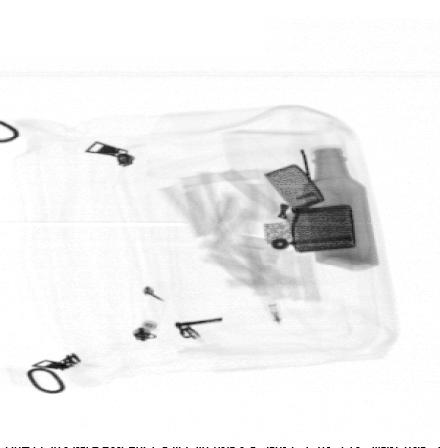Lighter: (262, 164, 358, 252)
